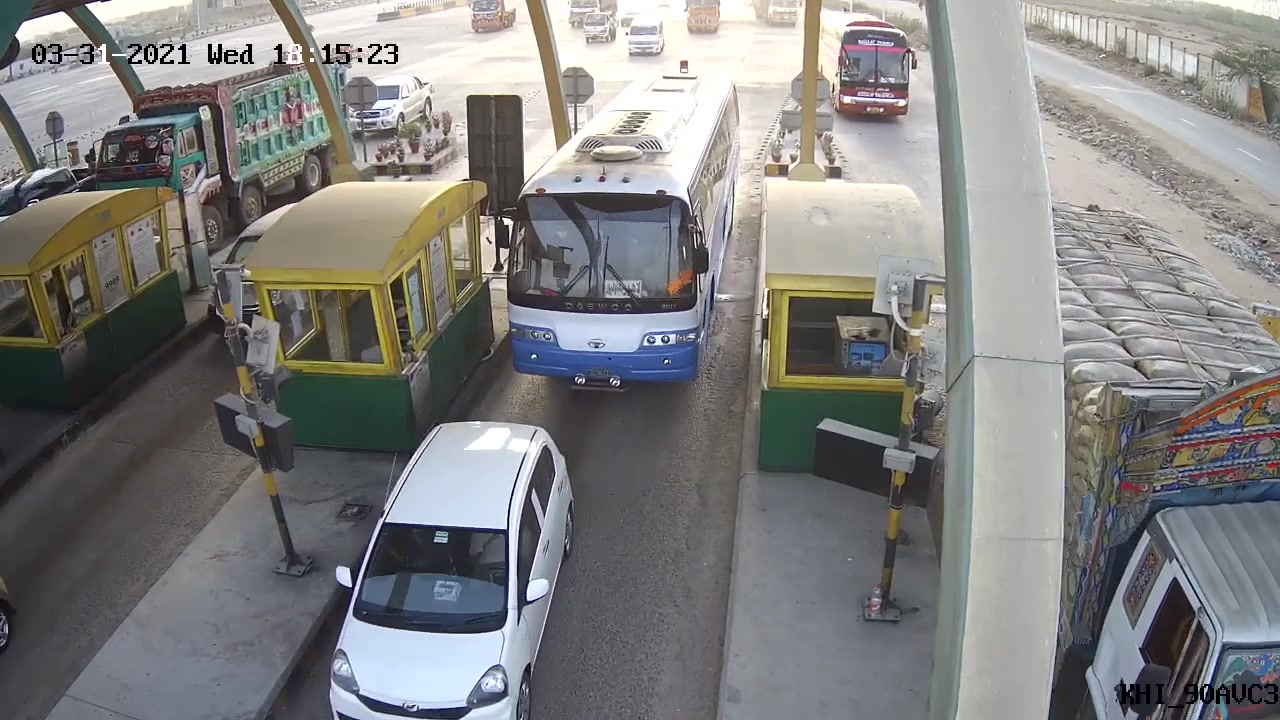F4: (478, 80, 748, 394)
